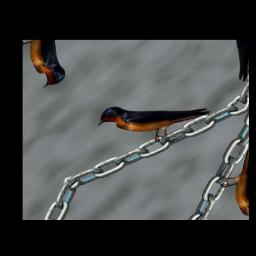Swallow: (91, 69, 213, 165)
